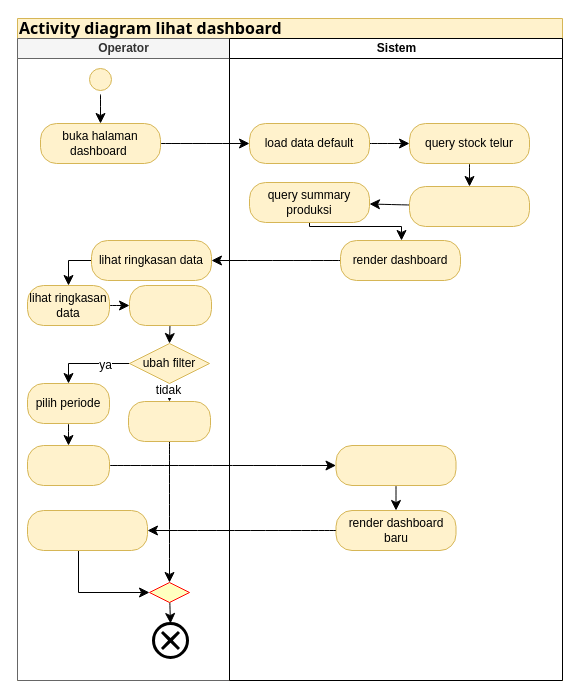
This 580x698 diagram has some shape labels left out. The shapes that lost their labels are listed below. From the top down, each one's centre as x and y in pixels, then its label:
pixel 469 206: query summary penjualan
pixel 170 305: pilih filter periode
pixel 169 421: selesai
pixel 68 465: kik apply filter
pixel 395 465: update data sesuai filter
pixel 87 530: lihat data terupdate
